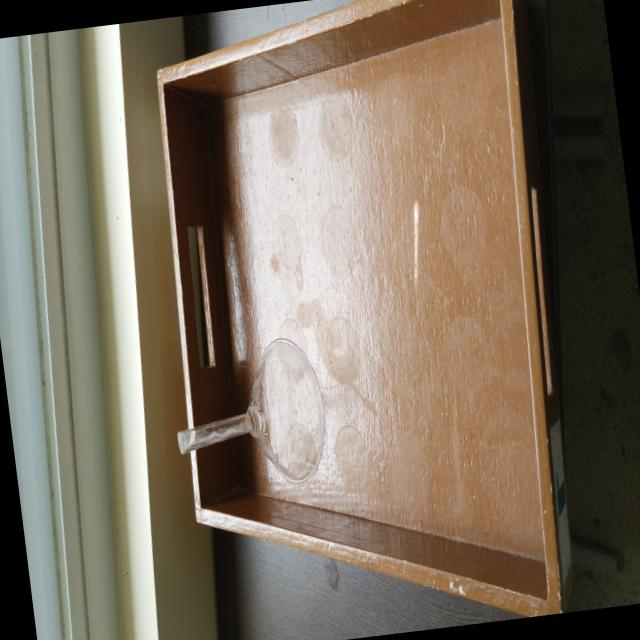funnel: (159, 312, 347, 544)
